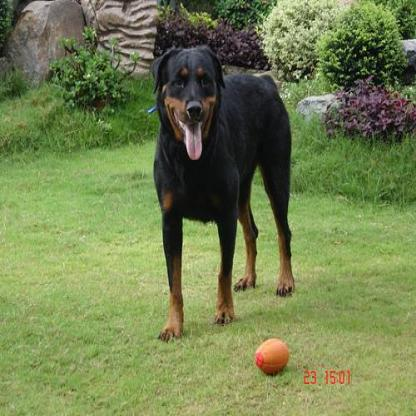Rottweiler: (149, 42, 295, 340)
